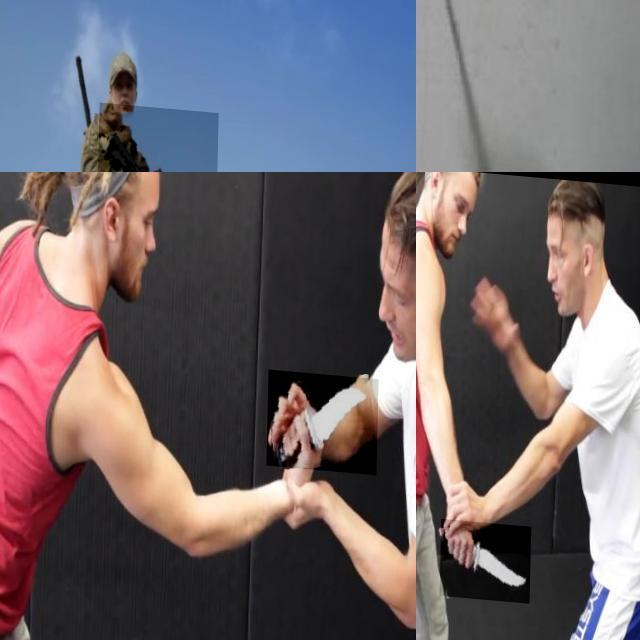-: (268, 362, 379, 467), (441, 514, 533, 596), (416, 0, 526, 52)
gun-knife-thesis - v11 Yolov5 augmented: (97, 97, 219, 172)
